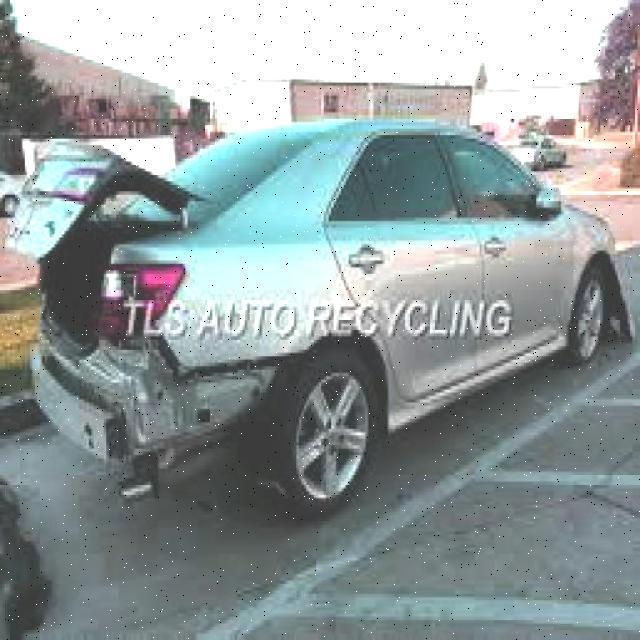car damage: (32, 308, 298, 466)
